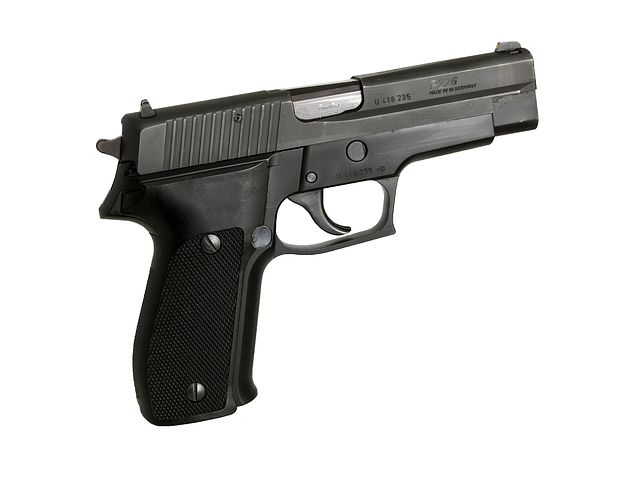gun: (88, 31, 547, 434)
